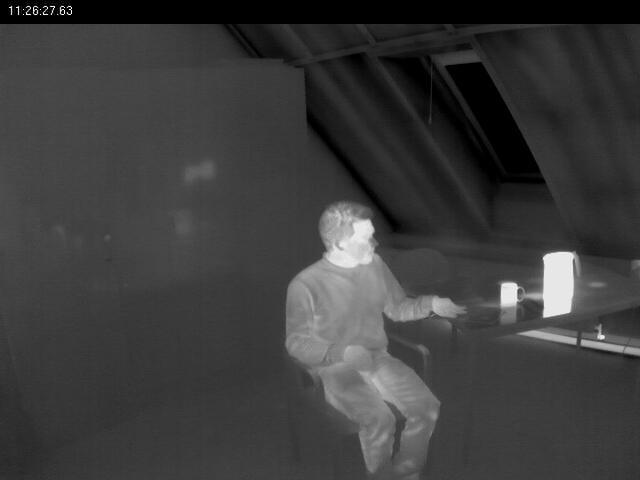person: (281, 196, 457, 480)
